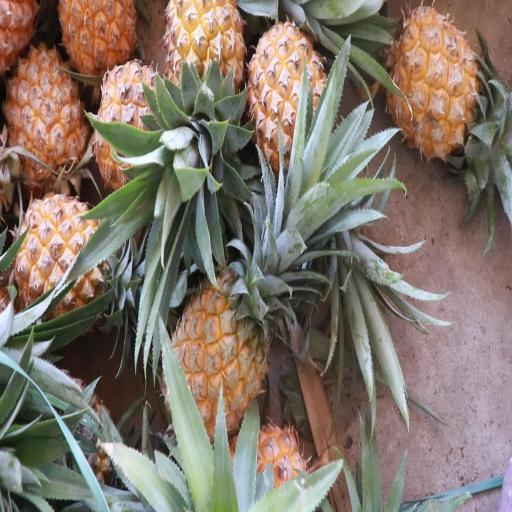Pineapple - v8 v1: (154, 264, 288, 458), (244, 16, 345, 203), (378, 4, 482, 185), (9, 184, 124, 342), (160, 0, 252, 197), (0, 24, 93, 198), (94, 54, 192, 214), (52, 0, 142, 108)
